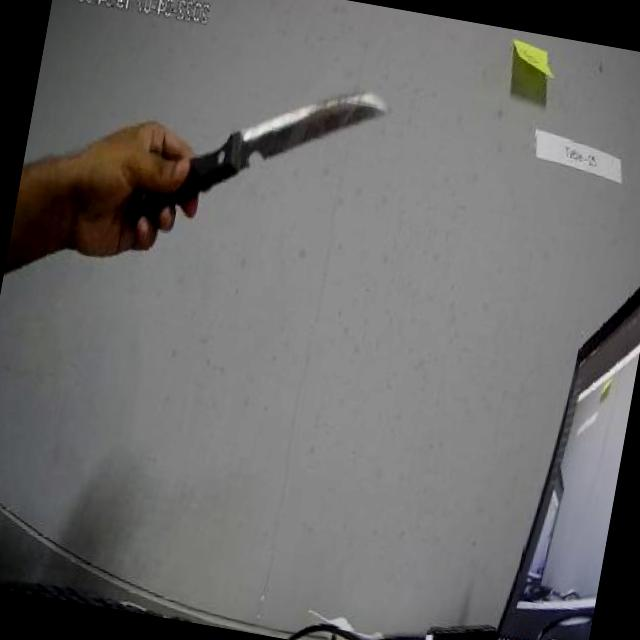knife: (106, 35, 396, 271)
